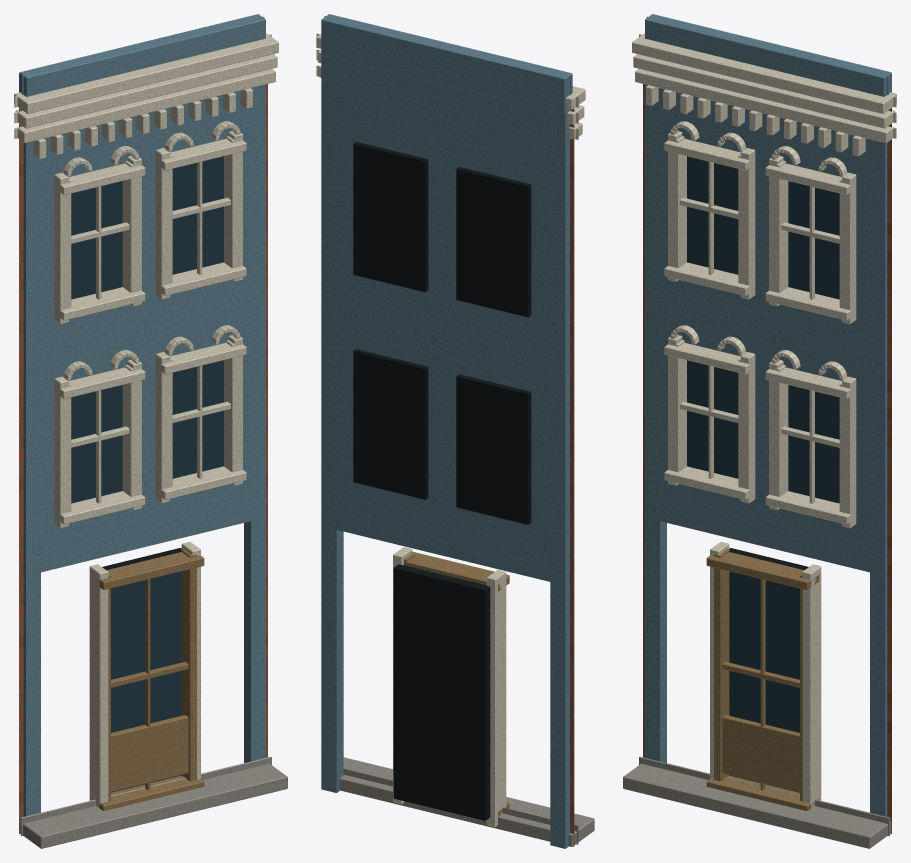
Rendered from VICT11_lod1.glb.
3 renders of one model, left to right at view 1: azimuth 30°, elevation 25°; view 2: azimuth 150°, elevation 25°; view 3: azimuth 330°, elevation 25°, orthographic.
Parts seen in each view (by area): view 1: VICT11_FRONT_LOD1; view 2: VICT11_FRONT_LOD1; view 3: VICT11_FRONT_LOD1.
Boxes of the visible parts, x1,y1,x2,y2 form: VICT11_FRONT_LOD1: (14,14,287,848); VICT11_FRONT_LOD1: (316,14,594,848); VICT11_FRONT_LOD1: (623,14,896,848).
Size of the model in its own units: 3.44 by 9.66 by 0.68.
8 materials, 6 textured.
